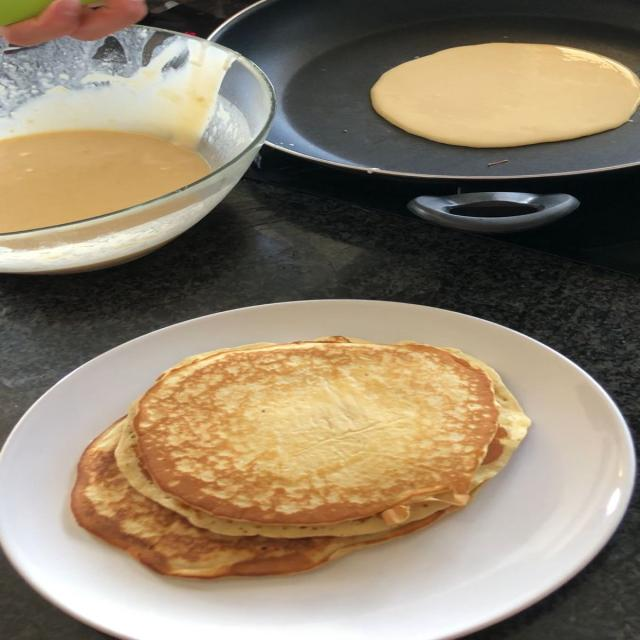pancake: (131, 342, 498, 525), (72, 424, 455, 578), (116, 421, 448, 538)
